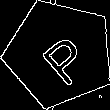P_NW: (28, 23, 91, 85)
